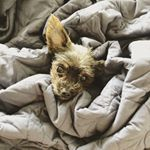puppy: (38, 11, 112, 104)
